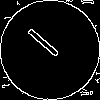I: (25, 25, 69, 66)
